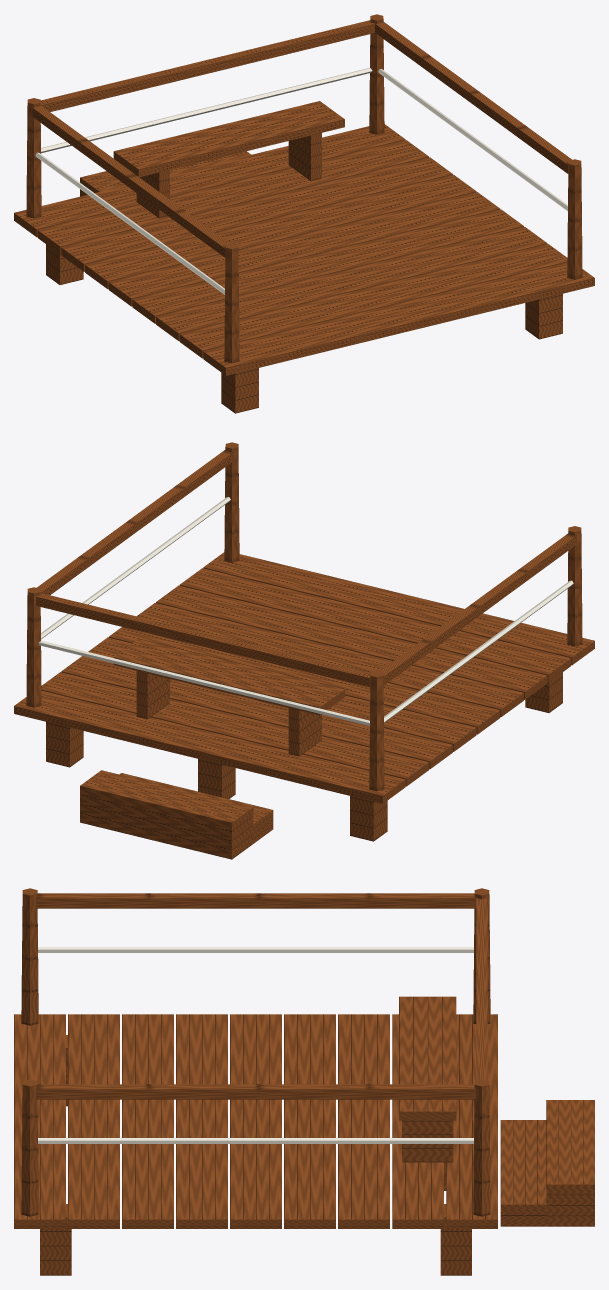
The model's file is safari-camp-and-bush-lodge-viewing-platform-4d5346b6.glb.
3 views of the same model, one above another, from view 1: azimuth 30°, elevation 25°; view 2: azimuth 150°, elevation 25°; view 3: azimuth 270°, elevation 25° (orthographic). The views are drawn at different scales.
Visible parts, largest first — view 1: viewing-platform-timber, viewing-platform-canvas; view 2: viewing-platform-timber, viewing-platform-canvas; view 3: viewing-platform-timber, viewing-platform-canvas.
Boxes of the visible parts, <box> form: viewing-platform-timber: <box>14,14,594,413</box>; viewing-platform-canvas: <box>35,68,567,294</box>; viewing-platform-timber: <box>14,442,594,859</box>; viewing-platform-canvas: <box>38,497,573,725</box>; viewing-platform-timber: <box>14,888,594,1275</box>; viewing-platform-canvas: <box>38,947,473,1143</box>.
Size of the model in its own units: 3.4 by 1.52 by 4.06.
Materials: 2 (1 with a texture image).
